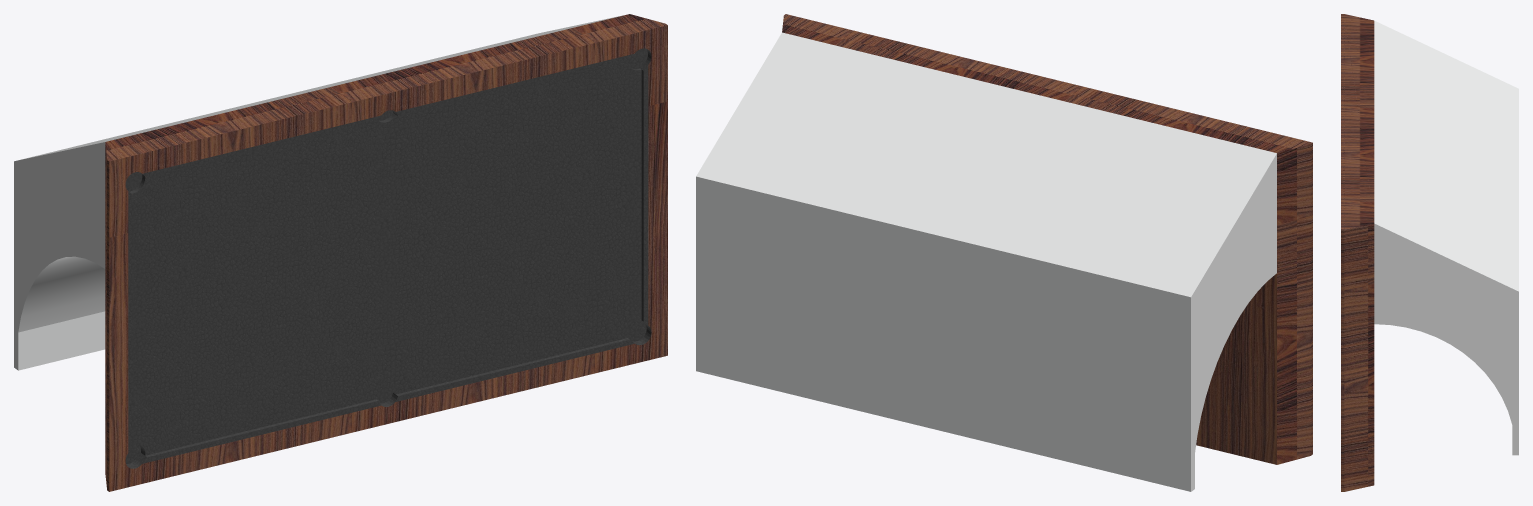
Rendered from espinela.glb.
3 views of the same model, side by side, from view 1: azimuth 30°, elevation 25°; view 2: azimuth 150°, elevation 25°; view 3: azimuth 270°, elevation 25° (orthographic). The views are drawn at different scales.
Parts seen in each view (by area): view 1: ID31, ID16, ID89; view 2: ID89, ID16; view 3: ID89, ID16.
Boxes of the visible parts, box(x1,y1,x2,y2) form: ID31: box(125, 48, 651, 468); ID16: box(105, 14, 667, 491); ID89: box(14, 15, 624, 370); ID89: box(696, 32, 1276, 491); ID16: box(782, 14, 1312, 464); ID89: box(1374, 20, 1518, 455); ID16: box(1341, 14, 1374, 491).
Size of the model in its own units: 90.55 by 51.25 by 31.5.
Materials: 3 (3 with a texture image).
